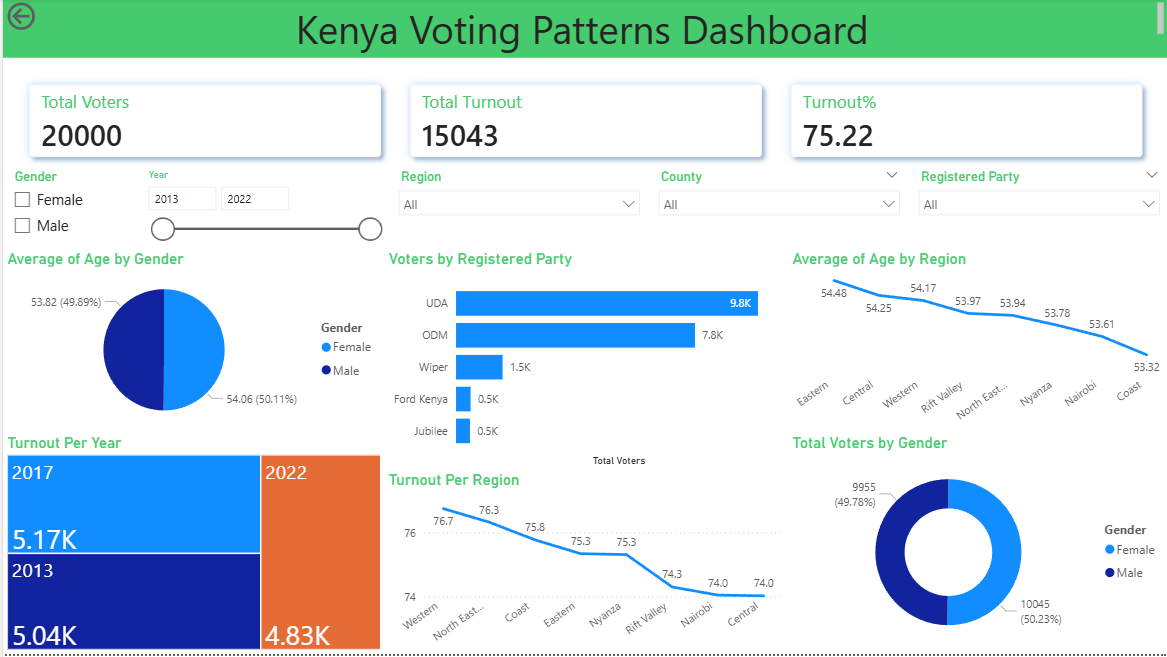

Layout of this report page (visuals, bound fields, positions):
{"tool":"powerbi","page":{"name":"Page 1","canvas":[1280,720],"ordinal":0},"visuals":[{"type":"textbox","box":[0,0,1280.3,65.9],"z":0},{"type":"cardVisual","fields":{"Data":["kenya voting.Total Voters","kenya voting.Total Turnout","kenya voting.Turnout%"]},"box":[0,65.9,1280.3,138.6],"z":1000},{"type":"donutChart","fields":{"Category":["kenya voting.Gender"],"Y":["kenya voting.Total Voters"]},"box":[861.8,477.5,418.5,242.9],"z":2000},{"type":"clusteredBarChart","title":"Voters by Registered Party","fields":{"Category":["kenya voting.Registered Party"],"Y":["kenya voting.Total Voters"]},"box":[418.5,275.8,441.9,242.9],"z":3000},{"type":"treemap","title":"Turnout Per Year","fields":{"Group":["kenya voting.Year"],"Values":["kenya voting.Total Turnout"]},"box":[0,477.5,419.9,242.9],"z":4000},{"type":"lineChart","title":"Turnout Per Region","fields":{"Category":["kenya voting.Region"],"Y":["kenya voting.Turnout%"]},"box":[418.5,518.7,441.9,201.7],"z":5000},{"type":"lineChart","fields":{"Category":["kenya voting.Region"],"Y":["Avg(kenya voting.Age)"]},"box":[861.8,275.8,418.5,201.7],"z":6000},{"type":"pieChart","fields":{"Category":["kenya voting.Gender"],"Y":["Avg(kenya voting.Age)"]},"box":[0,276,420,202],"z":7000},{"type":"slicer","fields":{"Values":["kenya voting.Year"]},"box":[146.8,182.5,277.2,93.3],"z":8000},{"type":"slicer","fields":{"Values":["kenya voting.Gender"]},"box":[0,182.5,146.8,93.3],"z":9000},{"type":"slicer","fields":{"Values":["kenya voting.Region"]},"box":[424,182.5,285.4,93.3],"z":10000},{"type":"slicer","fields":{"Values":["kenya voting.Registered Party"]},"box":[994.9,182.5,285.4,93.3],"z":11000},{"type":"slicer","fields":{"Values":["kenya voting.County"]},"box":[709.4,182.5,285.4,93.3],"z":12000},{"type":"actionButton","box":[0,0,100,40],"z":13000}]}

Visuals, with their boxes in screenshot pixels (x1, y1, x2, y2), scaled from the page's 1280x720 canvas onto the 1167x657 screenshot:
textbox: 0,0,1166,60
cardVisual - kenya voting.Total Voters x kenya voting.Total Turnout: 0,60,1166,187
donutChart - kenya voting.Gender x kenya voting.Total Voters: 786,436,1166,656
"Voters by Registered Party" clusteredBarChart: 382,252,784,473
"Turnout Per Year" treemap: 0,436,383,656
"Turnout Per Region" lineChart: 382,473,784,656
lineChart - kenya voting.Region x Avg(kenya voting.Age): 786,252,1166,436
pieChart - kenya voting.Gender x Avg(kenya voting.Age): 0,252,383,436
slicer - kenya voting.Year: 134,167,387,252
slicer - kenya voting.Gender: 0,167,134,252
slicer - kenya voting.Region: 387,167,647,252
slicer - kenya voting.Registered Party: 907,167,1166,252
slicer - kenya voting.County: 647,167,907,252
actionButton: 0,0,91,36
